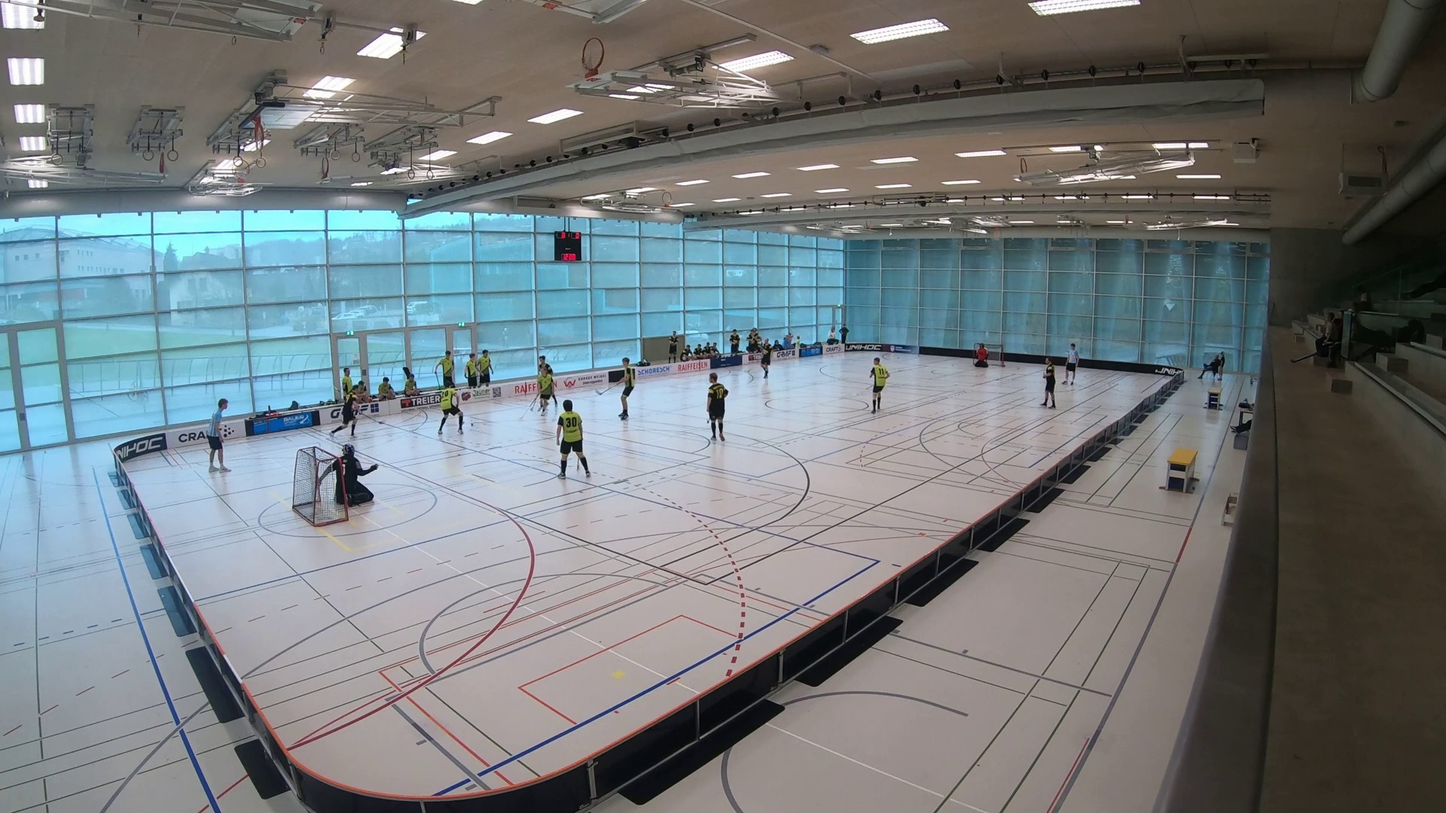Schiri: (199, 387, 237, 471), (1061, 339, 1079, 389)
ball: (468, 418, 477, 430)
goalkeeper: (334, 443, 377, 505), (974, 343, 989, 367)
player: (521, 346, 564, 410), (556, 399, 590, 477), (706, 373, 728, 440), (438, 384, 462, 435), (330, 391, 356, 436), (618, 358, 636, 420), (870, 357, 889, 413), (537, 362, 554, 414), (1041, 357, 1055, 407), (761, 341, 772, 377)
